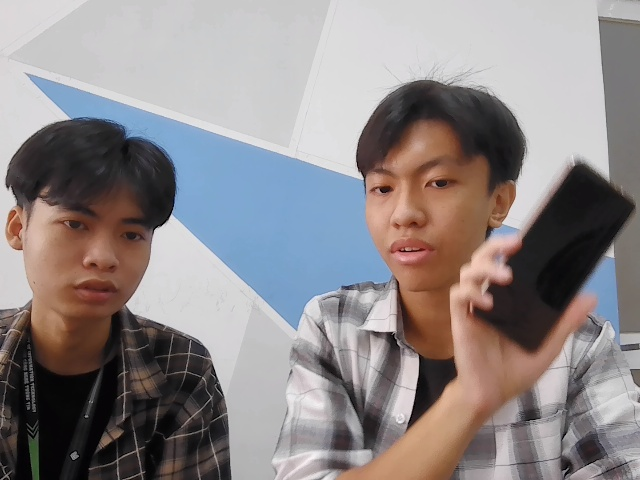human: (3, 118, 187, 321), (342, 78, 519, 286)
phone: (475, 144, 631, 364)
